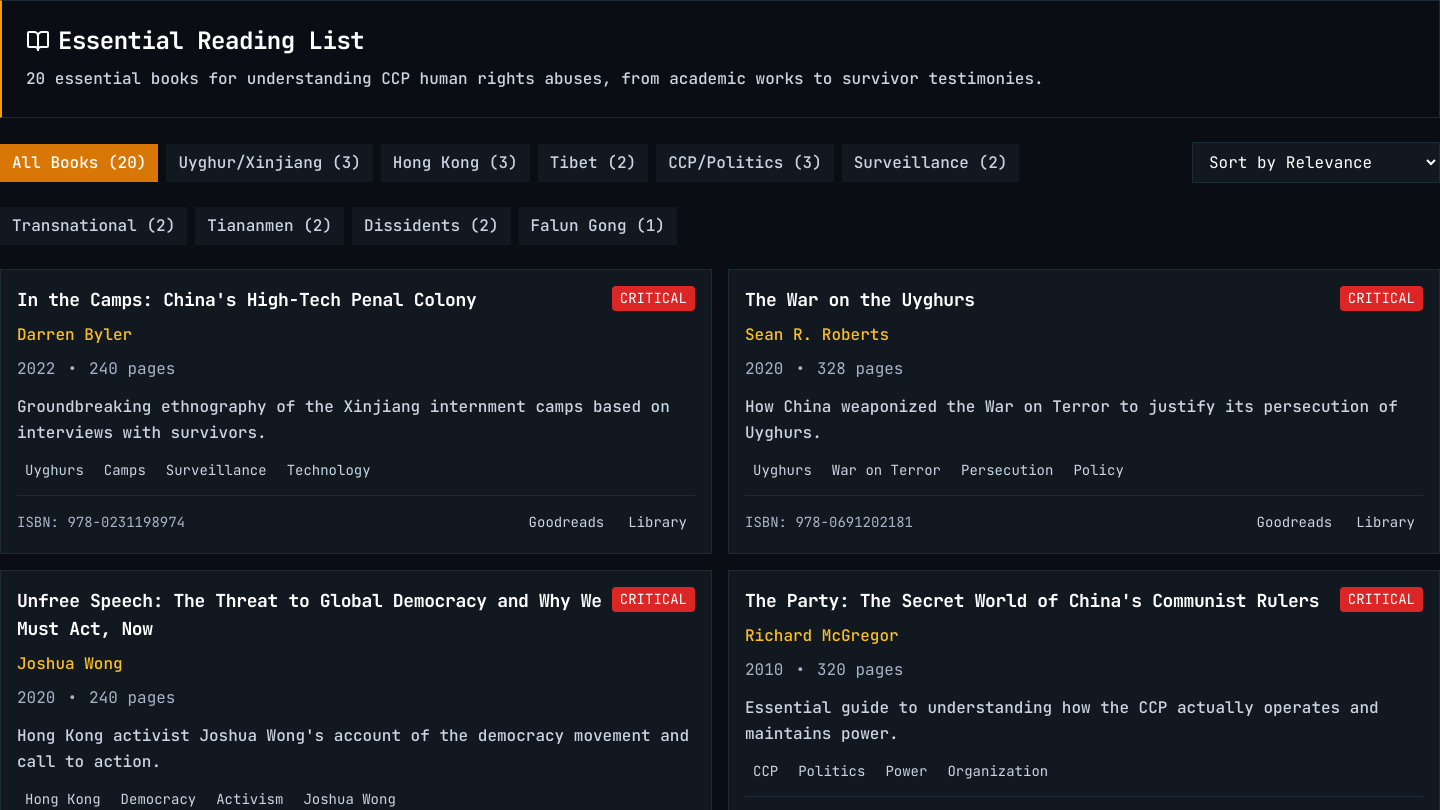
Test: ReadingList › filters books by category when a filter button is clicked
// Click Uyghur/Xinjiang category
Click the button "Uyghur/Xinjiang (3)".
click(270, 162)  # box [166,144,373,182]
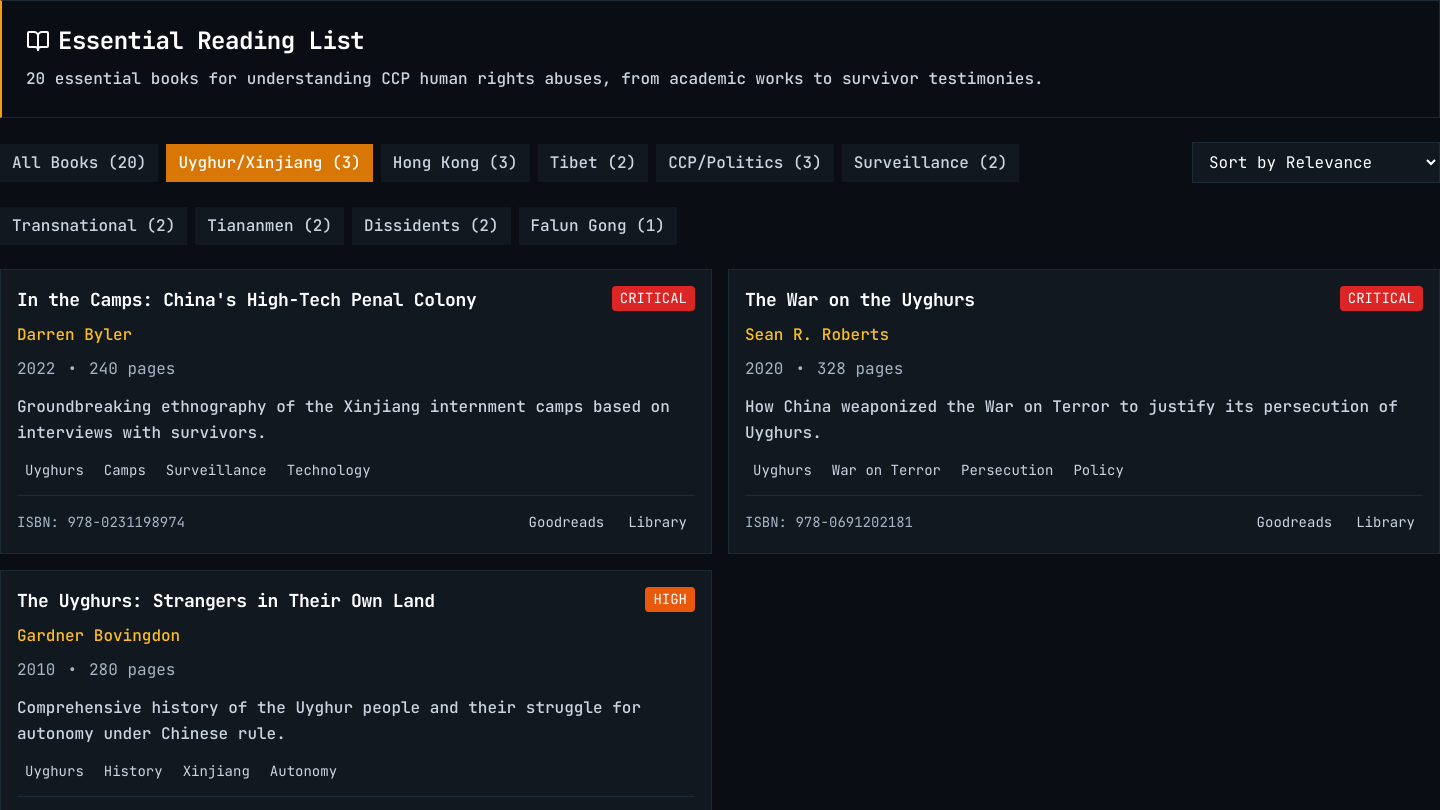
Expected: the heading "In the Camps: China's High-Tech Penal Colony" is shown, [17,286,484,314]
Now the heading "Unfree Speech" is gone
